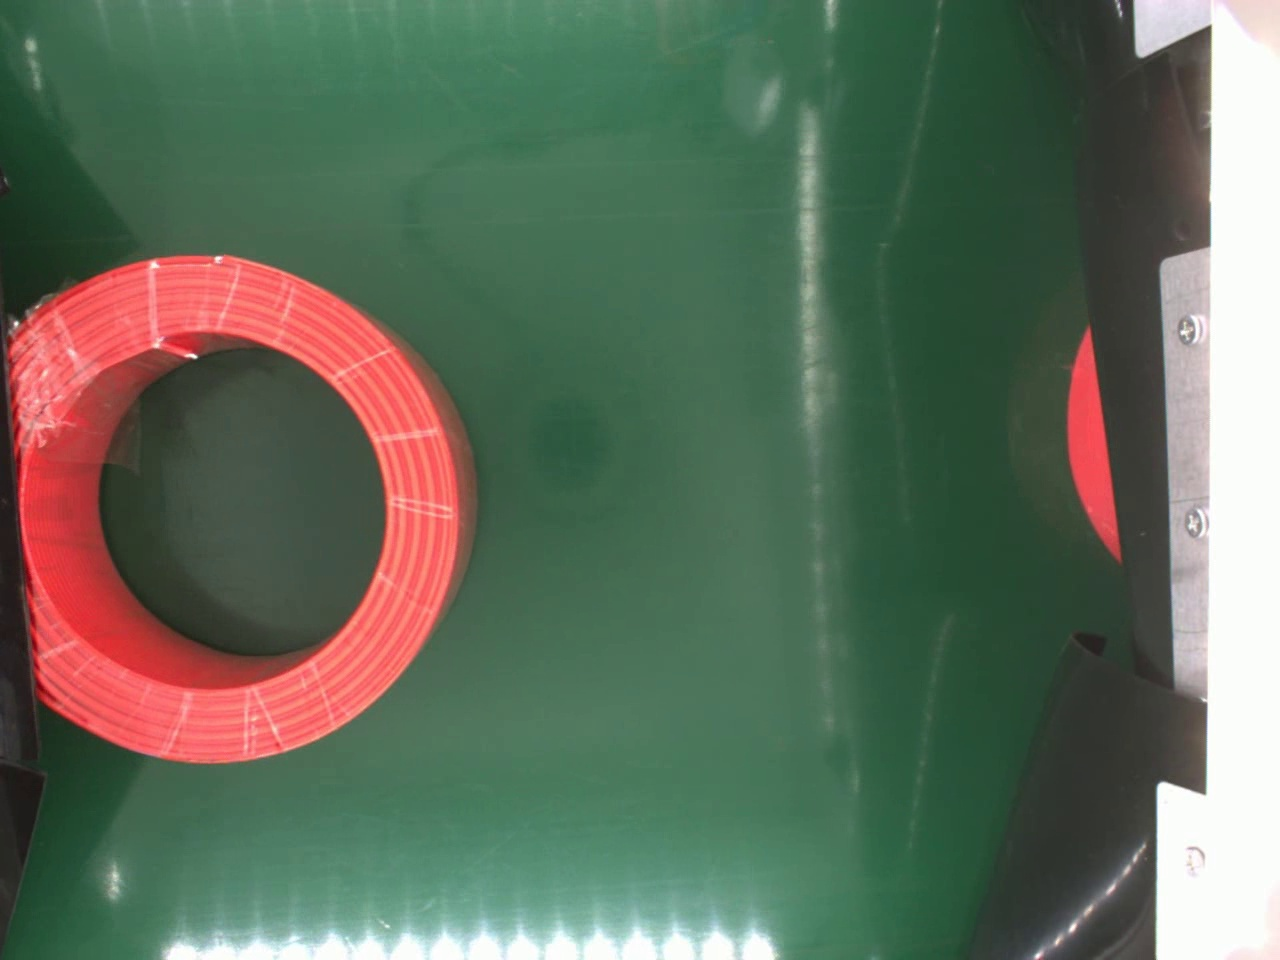red: (5, 254, 479, 771)
